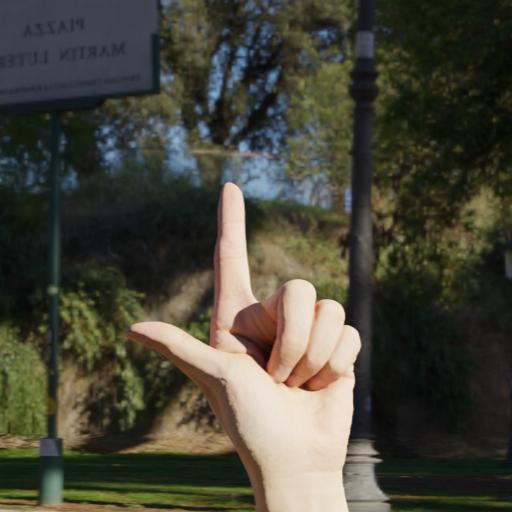L: (97, 164, 403, 502)
